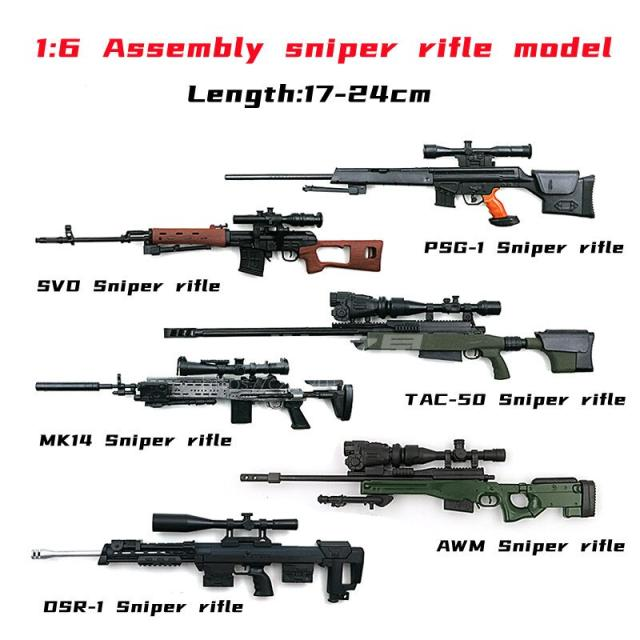Rifle: (163, 292, 596, 382), (225, 143, 597, 230), (30, 514, 366, 605), (242, 440, 598, 525), (35, 210, 383, 278), (35, 358, 355, 431)
